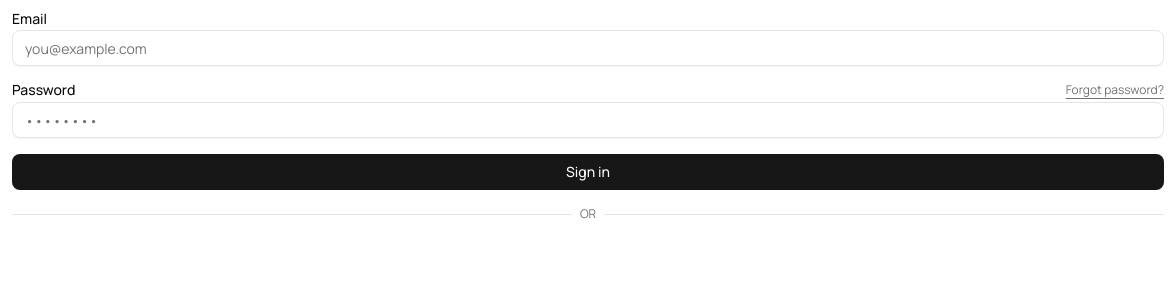
Test case: LoginForm › shows validation errors for empty submit
Click the button "Sign in": (588, 172) [12,154,1164,190]
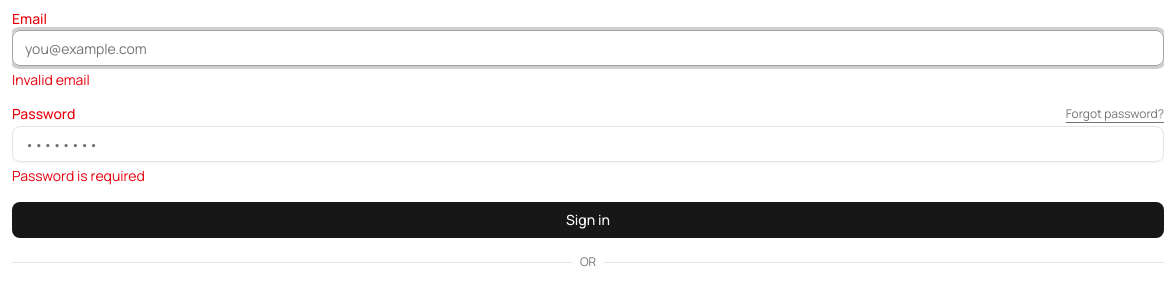
Check: the text "Invalid email" is shown, box [12,70,90,89]
